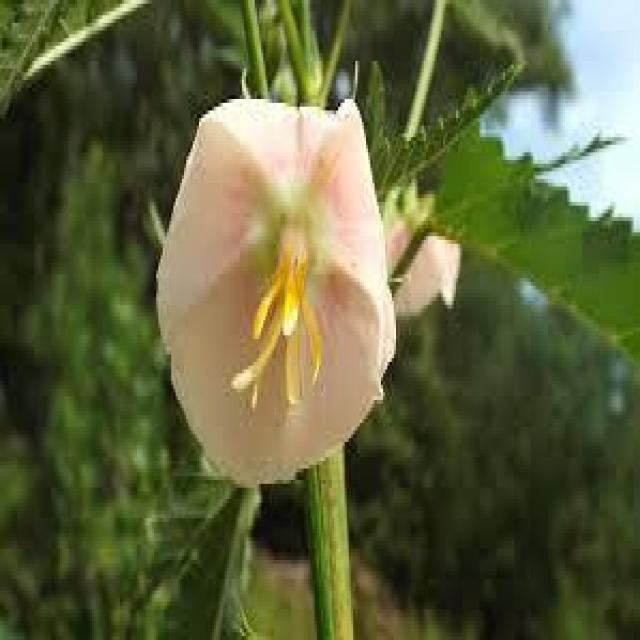organic waste: (157, 91, 395, 465)
